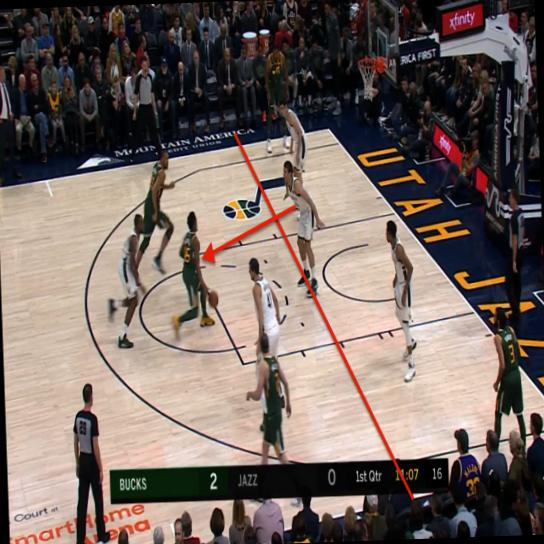basketball-hoop: (357, 55, 382, 103)
